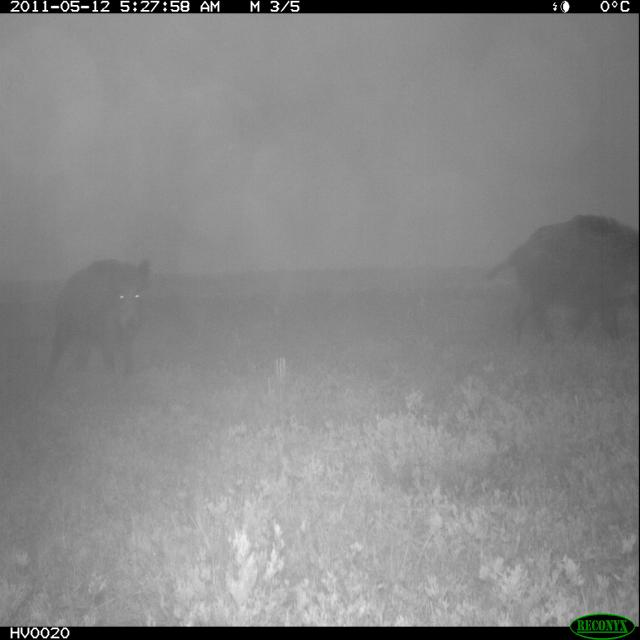boar: (483, 185, 640, 362), (26, 229, 169, 382)
